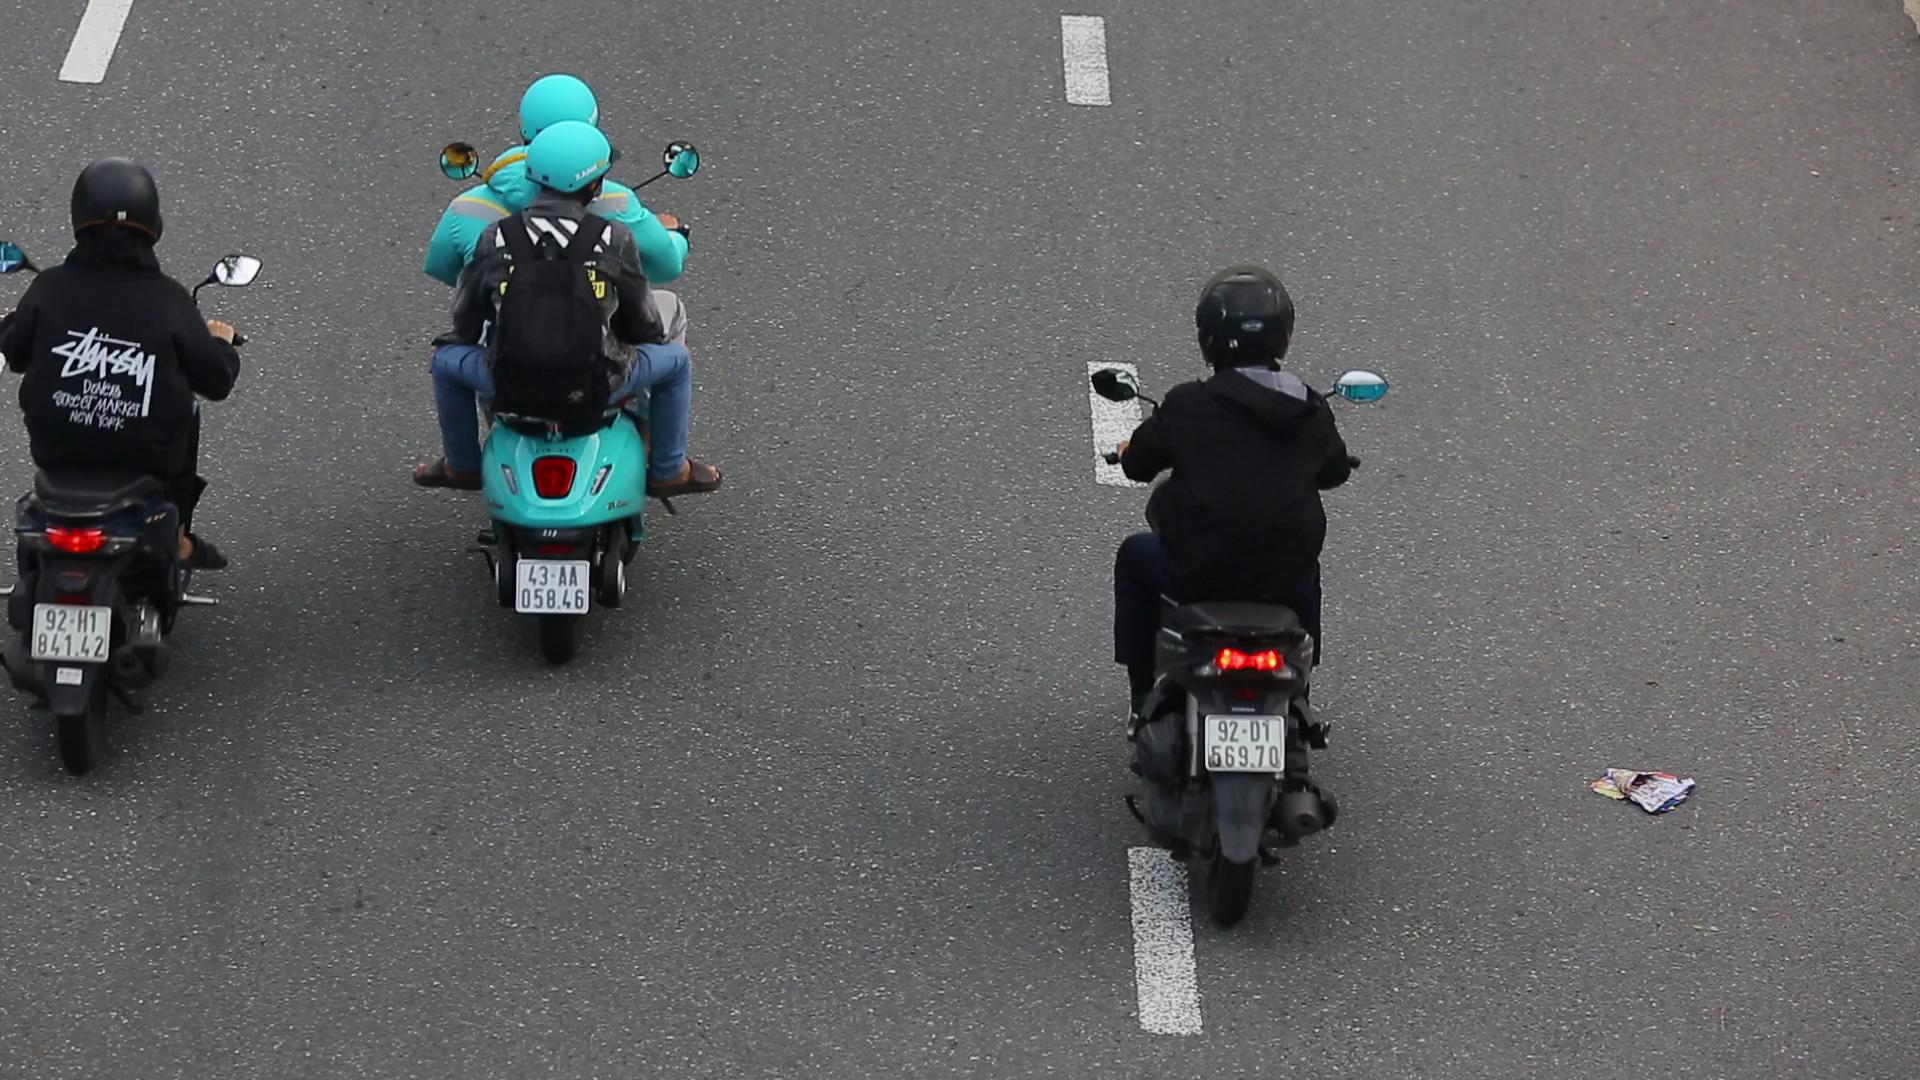motobike: (1065, 232, 1412, 948), (423, 78, 736, 657), (3, 142, 257, 781)
